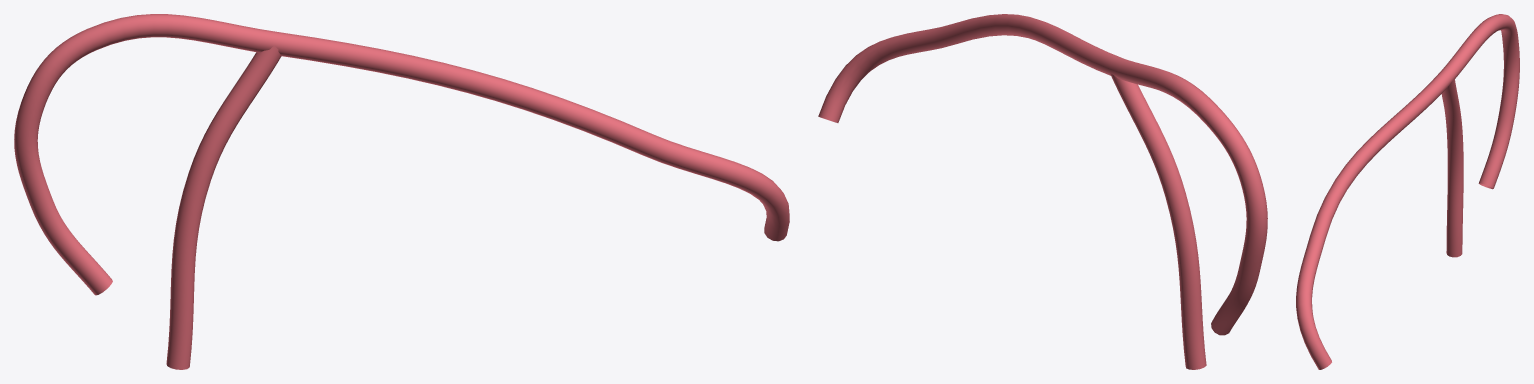
3 views of the same model, side by side, from view 1: azimuth 30°, elevation 25°; view 2: azimuth 150°, elevation 25°; view 3: azimuth 270°, elevation 25° (orthographic). The views are drawn at different scales.
Parts seen in each view (by area): view 1: ZA_e79fadee5bc53020; view 2: ZA_e79fadee5bc53020; view 3: ZA_e79fadee5bc53020.
Part boxes in pixels (x1,y1,x2,y2): ZA_e79fadee5bc53020: (14,14,789,369); ZA_e79fadee5bc53020: (818,14,1267,369); ZA_e79fadee5bc53020: (1296,14,1519,369).
Size of the model in its own units: 0.0618 by 0.0314 by 0.0278.
